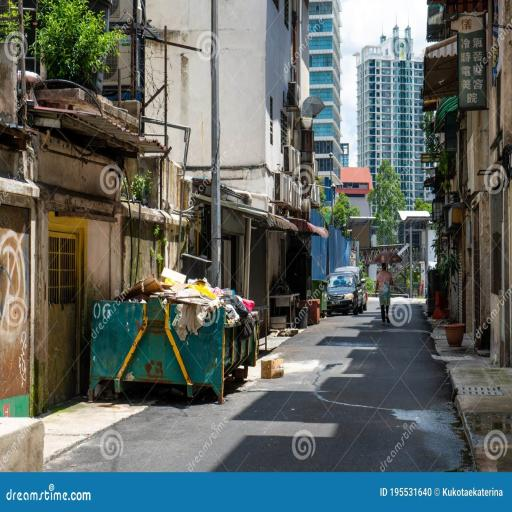Contenedor_Vacio: (0, 318, 217, 366)
contenedor_lleno: (88, 267, 259, 401)
